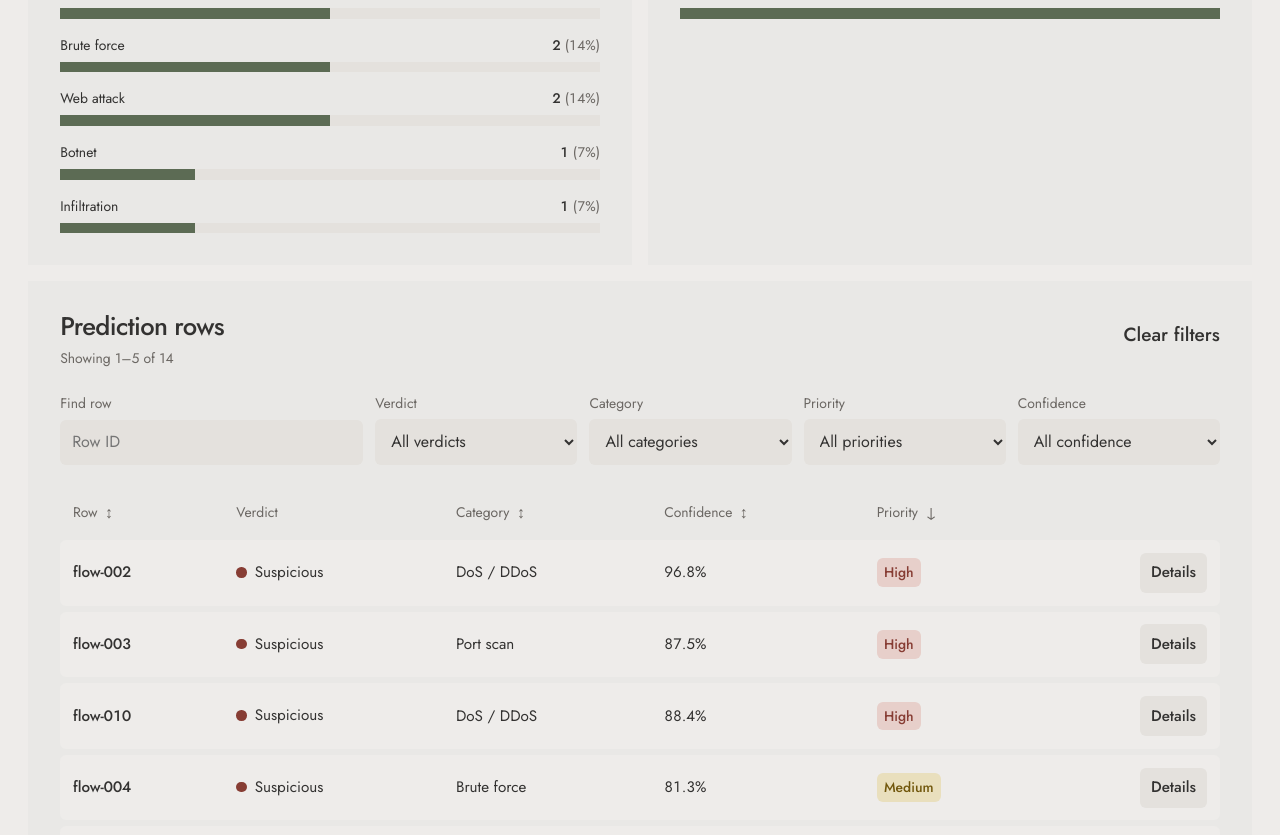
results interactions › filters suspicious rows and clears the view
The image size is (1280, 835).
(page scrolled)
Select "Suspicious" in the dropdown labelled "Verdict". click: [476, 442]
box: x1=375 y1=419 x2=577 y2=465
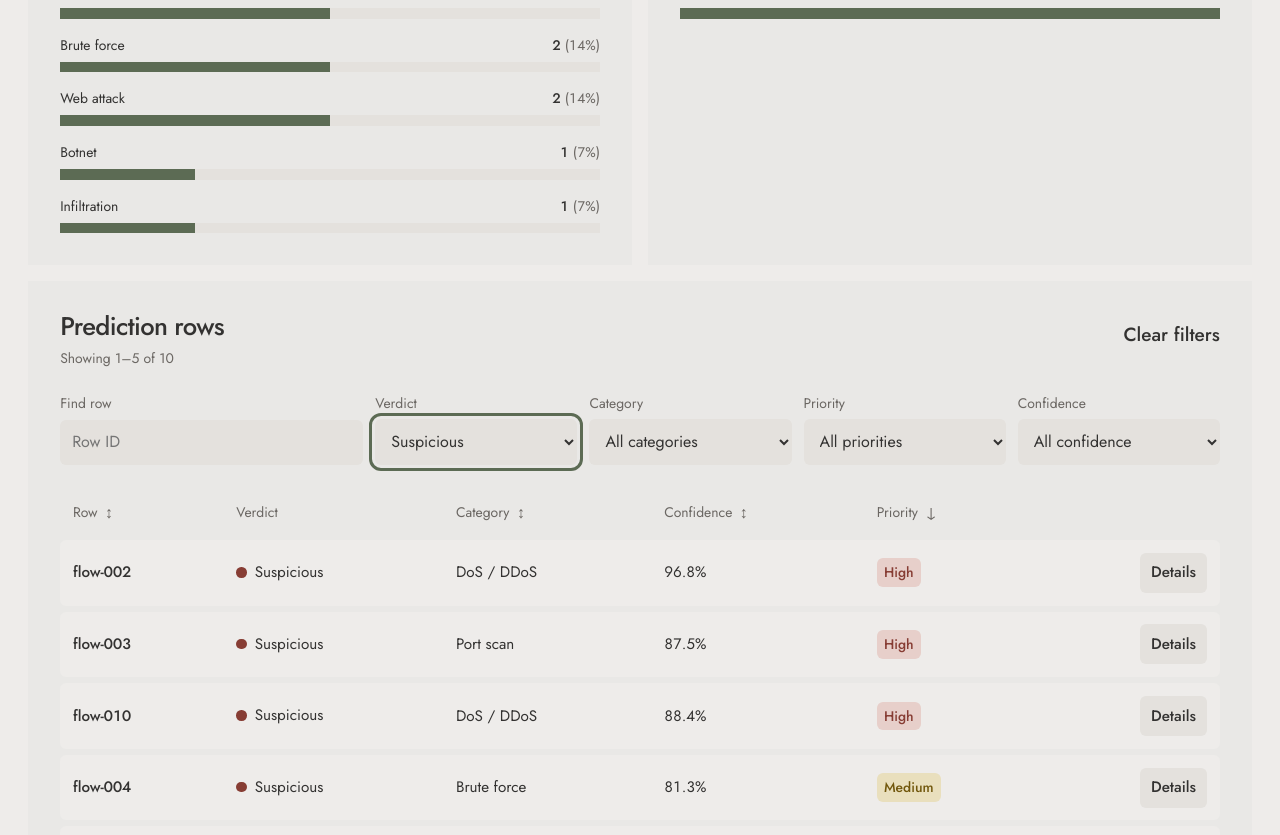
Now the text "Showing 1–5 of 10" is shown, box x1=60 y1=348 x2=174 y2=368
Select "DoS / DDoS" in the dropdown labelled "Category". click: [691, 442]
box: x1=590 y1=419 x2=792 y2=465
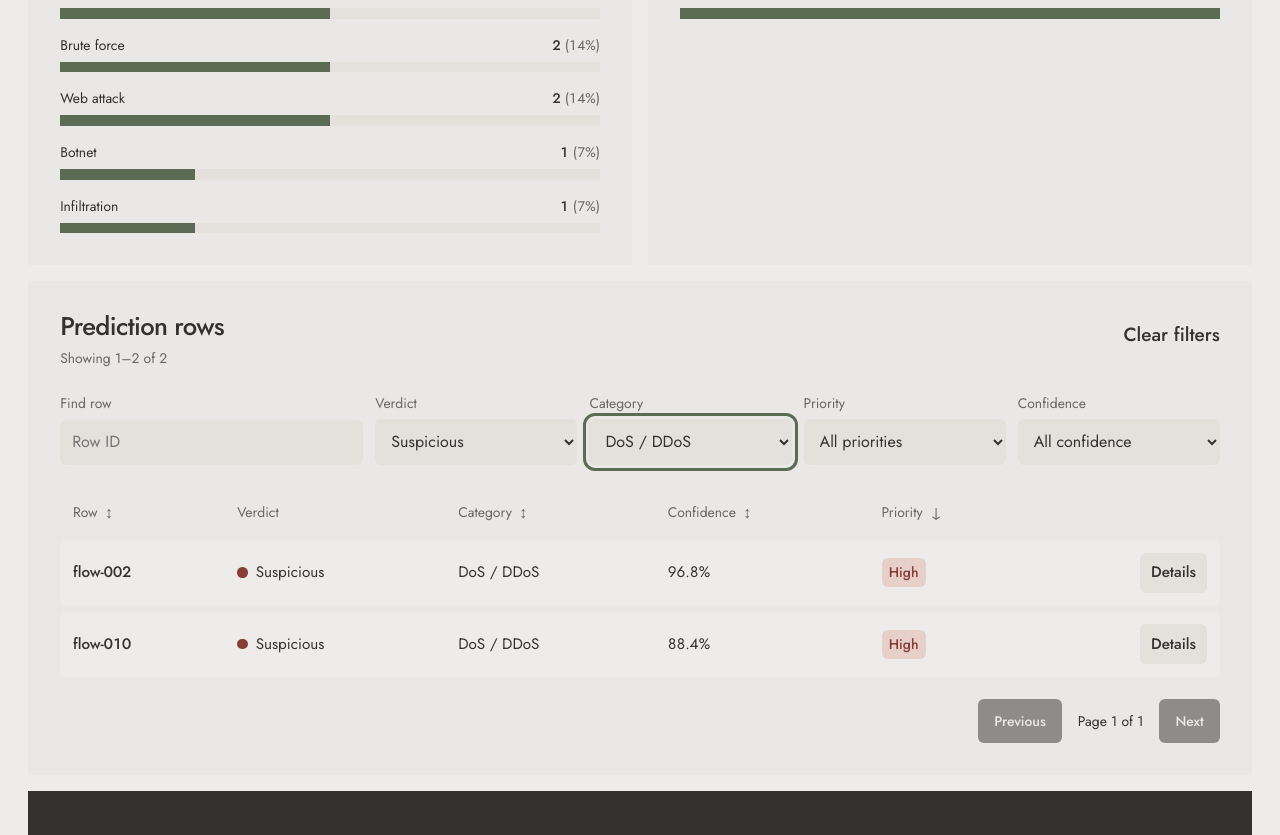
Now the text "Showing 1–2 of 2" is shown, box x1=60 y1=348 x2=167 y2=368
Click the button "Clear filters". click: [1172, 335]
box: x1=1124 y1=313 x2=1220 y2=357
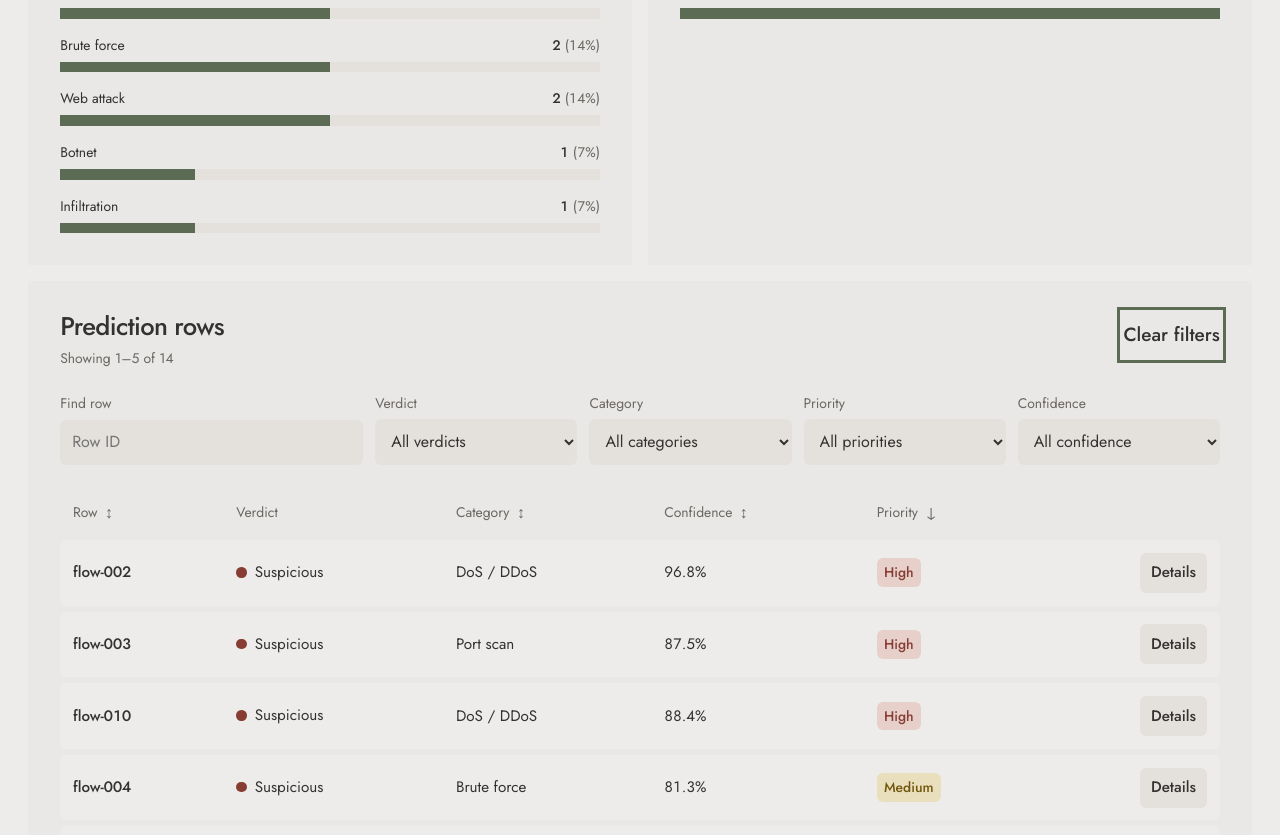
Now the text "Showing 1–5 of 14" is shown, box x1=60 y1=348 x2=174 y2=368
